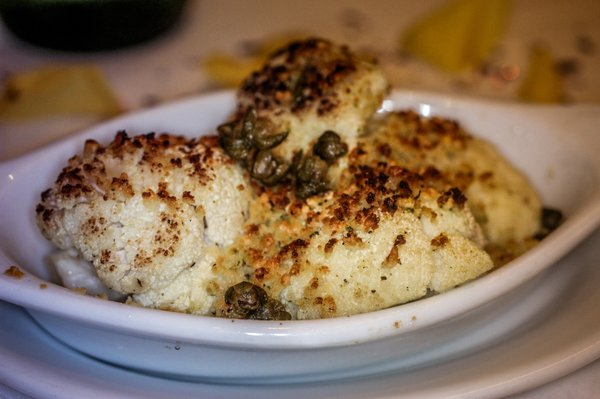curry: (10, 6, 598, 396)
sushi: (22, 36, 544, 323)
